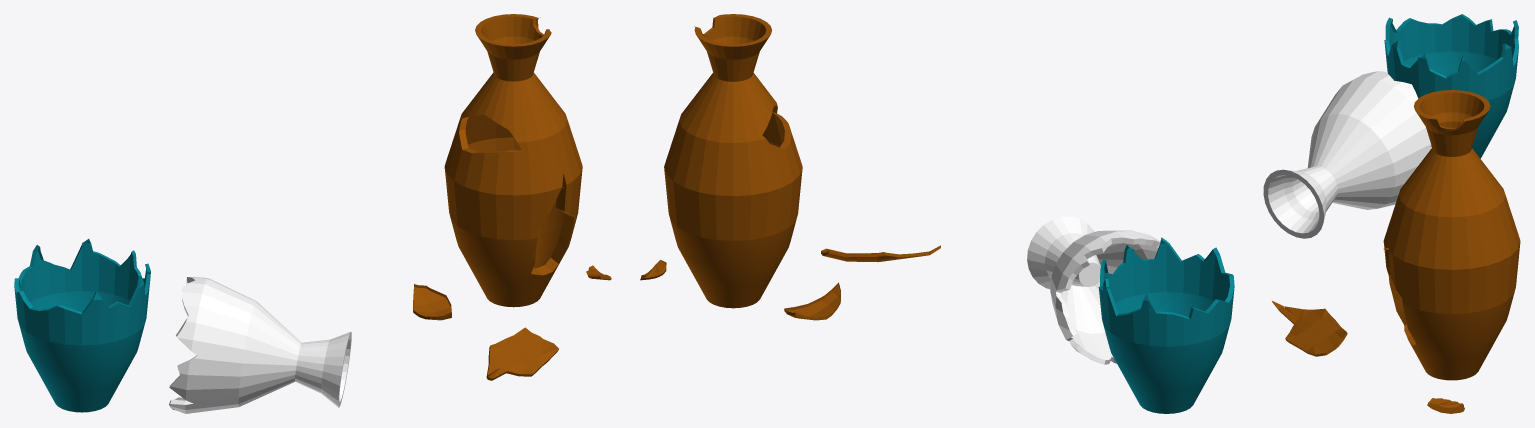
Rendered from Vases.FBX.
The picture shows the model from 3 angles, left to right: view 1: azimuth 30°, elevation 25°; view 2: azimuth 150°, elevation 25°; view 3: azimuth 270°, elevation 25°; orthographic projection.
Parts seen in each view (by area): view 1: Cone012, Cone013, shard 3; view 2: Cone013, Cone012, shard 3; view 3: Cone013, Cone012, shard 3.
Boxes of the visible parts, x1,y1,x2,y2 form: Cone012: (14, 239, 351, 413); Cone013: (444, 14, 582, 307); shard 3: (413, 265, 611, 380); Cone013: (664, 14, 802, 308); Cone012: (1027, 216, 1234, 413); shard 3: (640, 245, 940, 320); Cone013: (1383, 90, 1520, 380); Cone012: (1263, 14, 1518, 238); shard 3: (1272, 301, 1464, 413).
Bounding box in the file's own units: 82.14 × 36.66 × 31.95.
